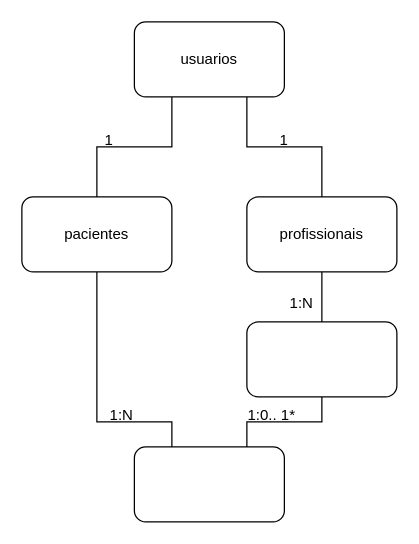
The diagram is 419 pixels wide and 544 high, and some of its shapes have lost their labels. The shapes that lost their labels are listed below. From the top down, each one's box as (x1, y1, x2, y2) in pixels, then its label:
(246, 321, 397, 397): horarios
(133, 446, 284, 522): agendamentos
